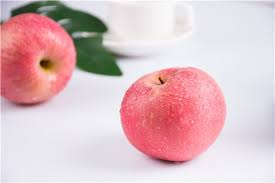Apple: (119, 66, 227, 162), (0, 12, 76, 104)
